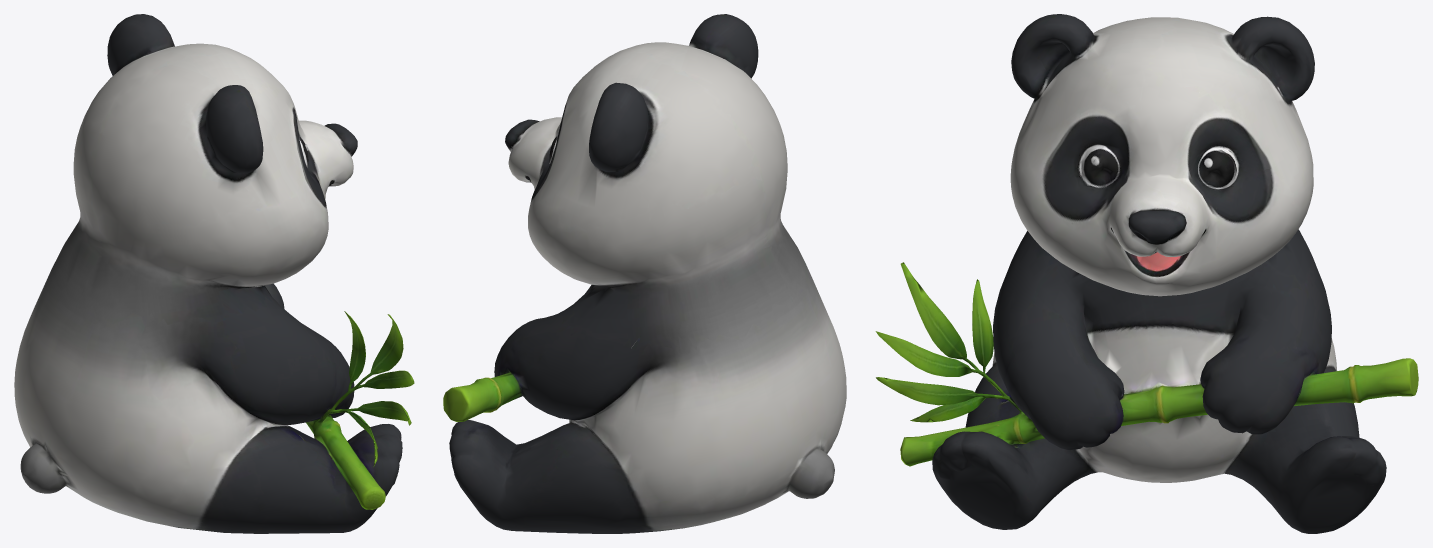
Rendered from panda.glb.
3 views of the same model, side by side, from view 1: azimuth 30°, elevation 25°; view 2: azimuth 150°, elevation 25°; view 3: azimuth 270°, elevation 25° (orthographic). The views are drawn at different scales.
Parts seen in each view (by area): view 1: tripo_node_f13cad1e-6770-4c7f-b429-6fd922267e8b; view 2: tripo_node_f13cad1e-6770-4c7f-b429-6fd922267e8b; view 3: tripo_node_f13cad1e-6770-4c7f-b429-6fd922267e8b.
Part boxes in pixels (x1,y1,x2,y2): tripo_node_f13cad1e-6770-4c7f-b429-6fd922267e8b: (14,14,414,533); tripo_node_f13cad1e-6770-4c7f-b429-6fd922267e8b: (443,14,846,533); tripo_node_f13cad1e-6770-4c7f-b429-6fd922267e8b: (875,14,1418,533).
Bounding box in the file's own units: 0.2318 × 0.3 × 0.3135.
Materials: 1 (1 with a texture image).
